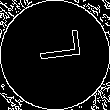L_W: (28, 36, 82, 74)
